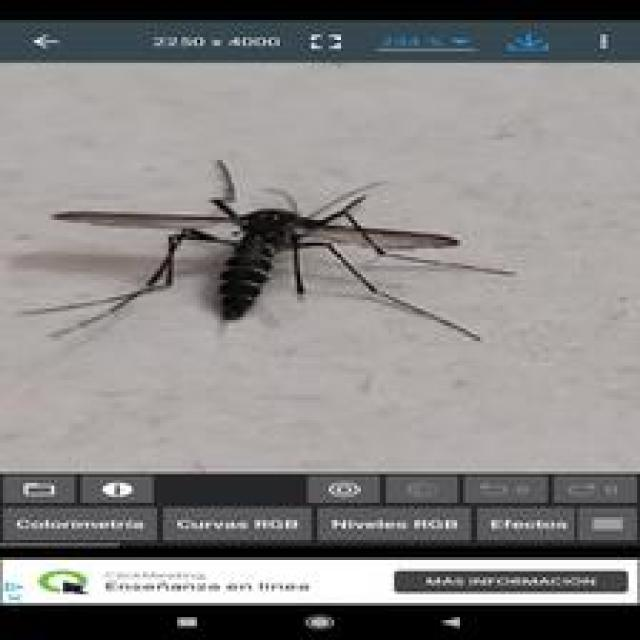Aedes albopictus: (20, 157, 517, 346)
